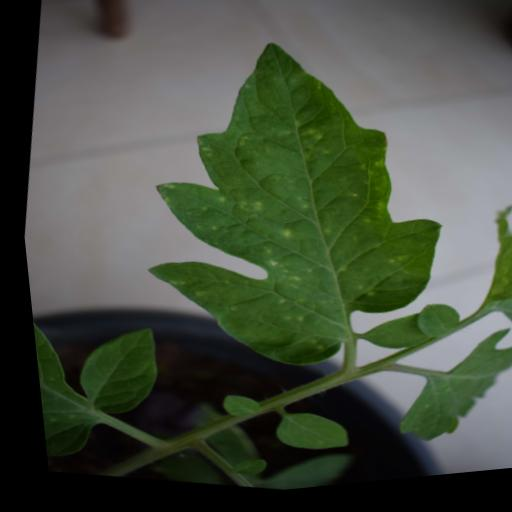Leaf Mold: (101, 14, 481, 404)
